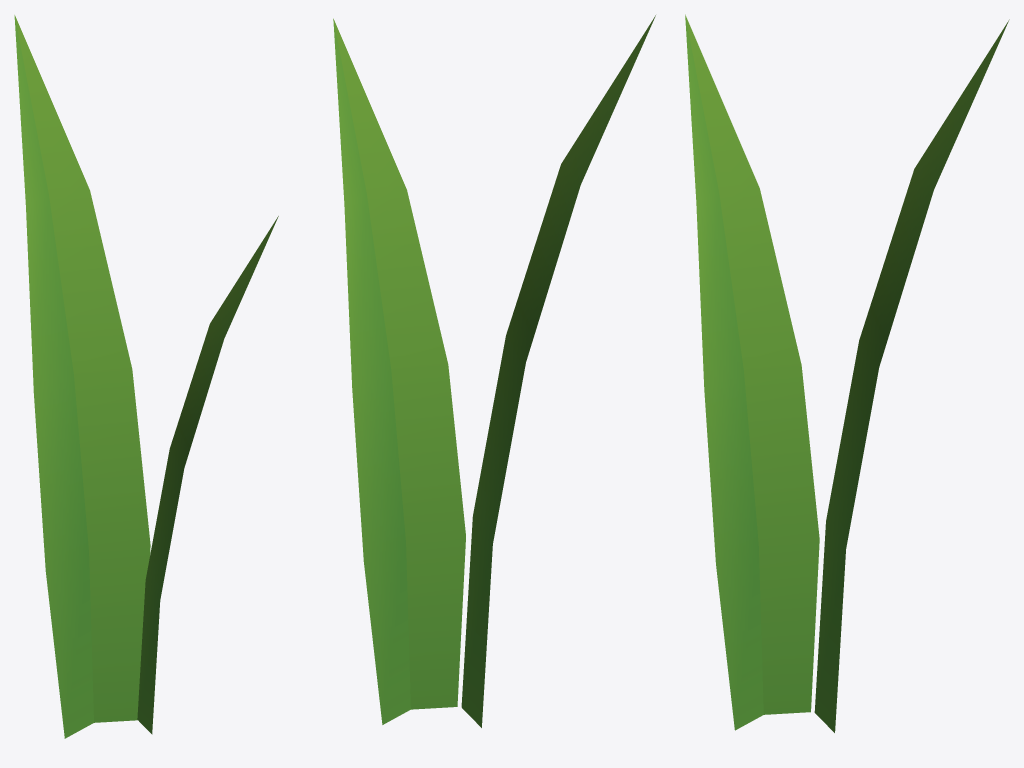
Rendered from Grass_2_B_Color1.glb.
3 renders of one model, left to right at view 1: azimuth 30°, elevation 25°; view 2: azimuth 150°, elevation 25°; view 3: azimuth 270°, elevation 25°, orthographic. The views are drawn at different scales.
Visible parts, largest first — view 1: Grass_2_B_Singlesided_Color1; view 2: Grass_2_B_Singlesided_Color1; view 3: Grass_2_B_Singlesided_Color1.
Boxes of the visible parts, x1,y1,x2,y2 form: Grass_2_B_Singlesided_Color1: (14, 15, 278, 738); Grass_2_B_Singlesided_Color1: (333, 15, 655, 727); Grass_2_B_Singlesided_Color1: (685, 14, 1009, 732).
Bounding box in the file's own units: 0.3841 × 0.9188 × 0.3783.
Materials: 1 (1 with a texture image).
